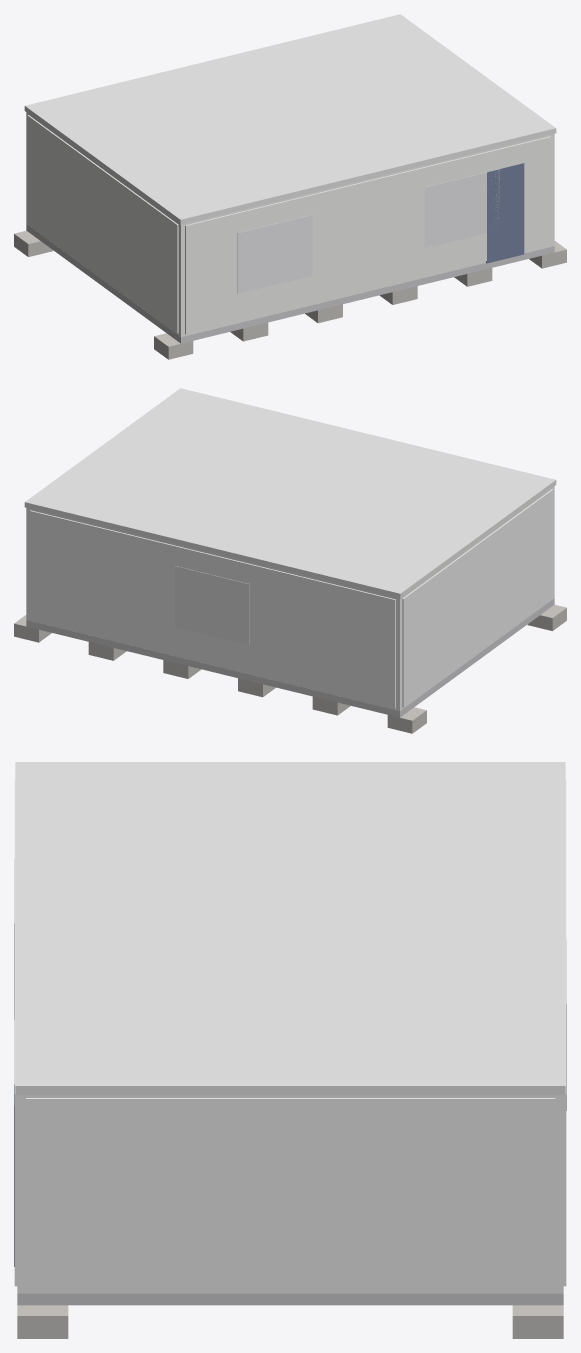
Rendered from Studio-30-Premium-LOD1.glb.
3 renders of one model, top to bottom at view 1: azimuth 30°, elevation 25°; view 2: azimuth 150°, elevation 25°; view 3: azimuth 270°, elevation 25°, orthographic. The views are drawn at different scales.
Visible parts, largest first — view 1: RoofMain, ExteriorPanelsPremium, WindowsLargeUpgrade, BaseFrame, FoundationBlocks, EntryDoor, ExteriorShell; view 2: RoofMain, ExteriorPanelsPremium, WindowsLargeUpgrade, BaseFrame, FoundationBlocks, ExteriorShell; view 3: RoofMain, ExteriorPanelsPremium, BaseFrame, ExteriorShell, FoundationBlocks.
Boxes of the visible parts, left/top/right/bottom form: RoofMain: left=24, top=14, right=556, bottom=224; ExteriorPanelsPremium: left=27, top=115, right=551, bottom=334; WindowsLargeUpgrade: left=237, top=169, right=499, bottom=293; BaseFrame: left=26, top=224, right=554, bottom=343; FoundationBlocks: left=14, top=230, right=566, bottom=359; EntryDoor: left=486, top=163, right=524, bottom=263; ExteriorShell: left=26, top=112, right=554, bottom=336; RoofMain: left=24, top=388, right=556, bottom=598; ExteriorPanelsPremium: left=30, top=489, right=553, bottom=708; WindowsLargeUpgrade: left=175, top=566, right=249, bottom=644; BaseFrame: left=26, top=598, right=554, bottom=717; FoundationBlocks: left=14, top=604, right=566, bottom=733; ExteriorShell: left=26, top=486, right=554, bottom=710; RoofMain: left=15, top=762, right=565, bottom=1094; ExteriorPanelsPremium: left=14, top=779, right=566, bottom=1290; BaseFrame: left=17, top=1293, right=563, bottom=1305; ExteriorShell: left=17, top=1095, right=563, bottom=1293; FoundationBlocks: left=17, top=1305, right=563, bottom=1338.
Size of the model in its own units: 9.6 by 3.17 by 6.53.
